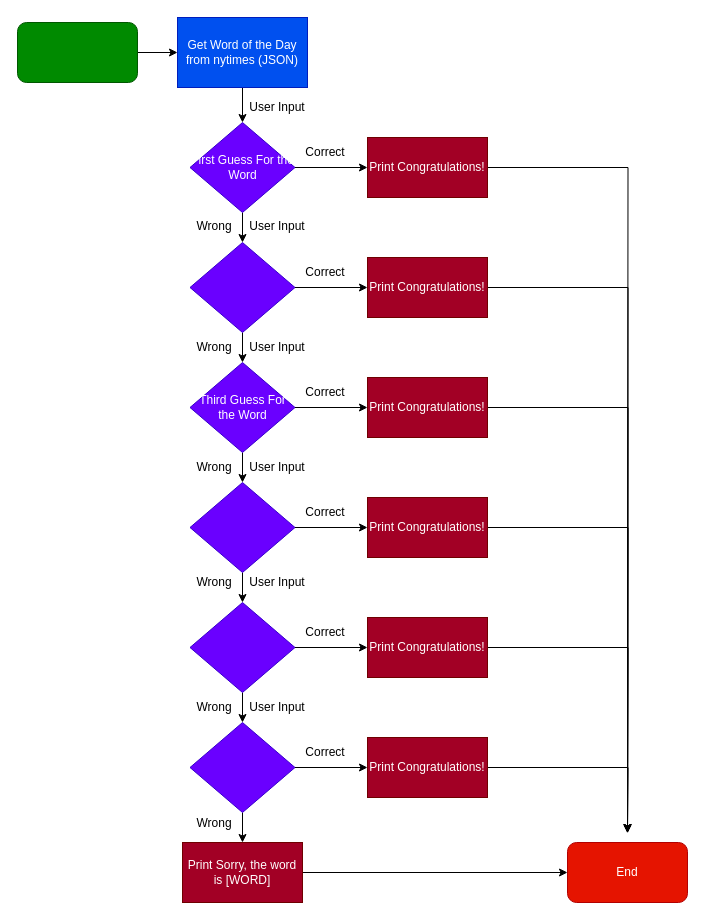
This 705x920 diagram has some shape labels left out. Each missing label, with the box of its shape:
Fifth Guess For the Word: (189, 602, 295, 692)
Fourth Guess For the Word: (189, 482, 295, 572)
Second Guess For the Word: (189, 242, 295, 332)
Sixth Guess For the Word: (189, 722, 295, 812)
Start: (16, 22, 138, 82)
